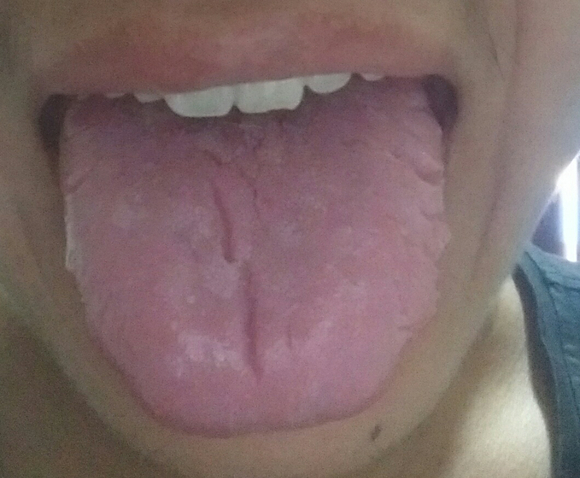baitaishe: (59, 73, 449, 438)
liewenshe: (205, 147, 268, 386)
